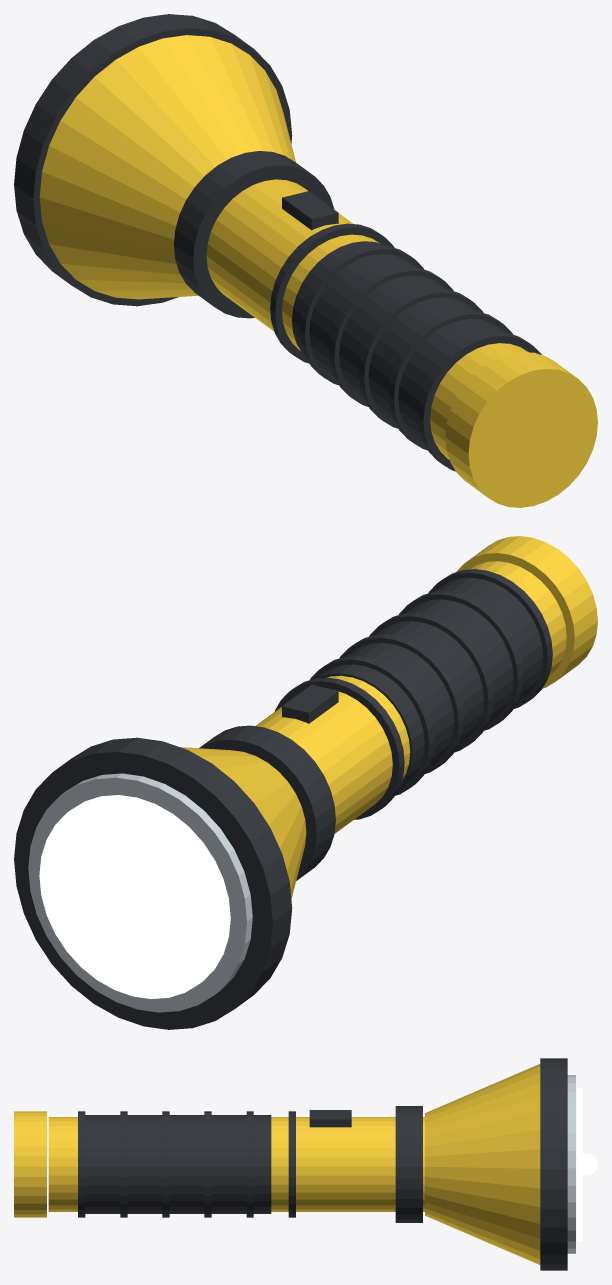
File: flashlight.glb
The picture shows the model from 3 angles, top to bottom: view 1: azimuth 30°, elevation 25°; view 2: azimuth 150°, elevation 25°; view 3: azimuth 270°, elevation 25°; orthographic projection. The views are drawn at different scales.
Visible parts, largest first — view 1: Flared yellow head, Rear yellow cap, Dark grip, Yellow barrel, Dark front rim, Neck collar, Grip ring.005, Grip ring, Grip ring.004, Grip ring.002, Grip ring.003, Grip ring.001 (+1 smaller); view 2: Lens, Dark front rim, Dark grip, Yellow barrel, Reflector dish, Rear yellow cap, Neck collar, Flared yellow head, Grip ring.005, Grip ring.004, Grip ring.002, Grip ring.003 (+4 smaller); view 3: Flared yellow head, Dark grip, Yellow barrel, Dark front rim, Rear yellow cap, Neck collar, Reflector dish, Lens, Grip ring, Grip ring.001, Grip ring.002, Grip ring.003 (+4 smaller).
Part boxes in pixels (x1=…): Flared yellow head: x1=39, y1=35, x2=295, y2=299; Rear yellow cap: x1=445, y1=352, x2=597, y2=507; Dark grip: x1=292, y1=241, x2=506, y2=444; Yellow barrel: x1=206, y1=179, x2=528, y2=459; Dark front rim: x1=14, y1=14, x2=292, y2=306; Neck collar: x1=174, y1=151, x2=334, y2=318; Grip ring.005: x1=270, y1=223, x2=394, y2=363; Grip ring: x1=418, y1=332, x2=541, y2=471; Grip ring.004: x1=299, y1=245, x2=424, y2=385; Grip ring.002: x1=359, y1=288, x2=483, y2=428; Grip ring.003: x1=329, y1=267, x2=453, y2=406; Grip ring.001: x1=388, y1=310, x2=512, y2=450; Lens: x1=39, y1=795, x2=230, y2=998; Dark front rim: x1=14, y1=737, x2=292, y2=1029; Dark grip: x1=316, y1=577, x2=543, y2=790; Yellow barrel: x1=255, y1=561, x2=566, y2=833; Reflector dish: x1=28, y1=773, x2=252, y2=1012; Rear yellow cap: x1=456, y1=536, x2=597, y2=688; Neck collar: x1=199, y1=725, x2=335, y2=880; Flared yellow head: x1=180, y1=747, x2=306, y2=899; Grip ring.005: x1=274, y1=677, x2=404, y2=819; Grip ring.004: x1=310, y1=656, x2=434, y2=795; Grip ring.002: x1=369, y1=612, x2=493, y2=752; Grip ring.003: x1=339, y1=634, x2=463, y2=773; Flared yellow head: x1=425, y1=1064, x2=540, y2=1264; Dark grip: x1=85, y1=1115, x2=271, y2=1213; Yellow barrel: x1=48, y1=1117, x2=424, y2=1211; Dark front rim: x1=540, y1=1058, x2=567, y2=1270; Rear yellow cap: x1=14, y1=1111, x2=46, y2=1217; Neck collar: x1=395, y1=1106, x2=422, y2=1222; Reflector dish: x1=567, y1=1075, x2=575, y2=1253; Lens: x1=577, y1=1087, x2=582, y2=1241; Grip ring: x1=78, y1=1111, x2=85, y2=1217; Grip ring.001: x1=120, y1=1111, x2=127, y2=1217; Grip ring.002: x1=162, y1=1111, x2=169, y2=1217; Grip ring.003: x1=204, y1=1111, x2=211, y2=1217.
Bounding box in the file's own units: 0.116 × 0.116 × 0.319.
